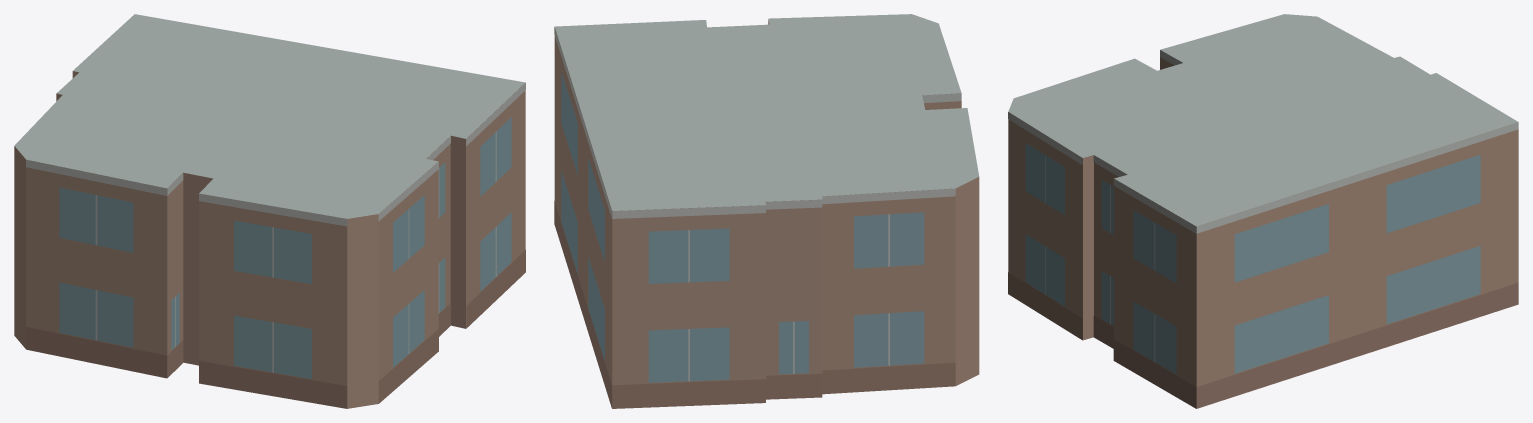
Rendered from survey-upis-32868554.glb.
The picture shows the model from 3 angles, left to right: view 1: azimuth 30°, elevation 25°; view 2: azimuth 150°, elevation 25°; view 3: azimuth 270°, elevation 25°; orthographic projection. The views are drawn at different scales.
Visible parts, largest first — view 1: survey-upis-32868554.tmp; view 2: survey-upis-32868554.tmp; view 3: survey-upis-32868554.tmp.
Boxes of the visible parts, x1=… form: survey-upis-32868554.tmp: x1=14, y1=14, x2=525, y2=408; survey-upis-32868554.tmp: x1=554, y1=14, x2=979, y2=408; survey-upis-32868554.tmp: x1=1008, y1=14, x2=1518, y2=408.
Bounding box in the file's own units: 15.26 × 6.1 × 15.48.
